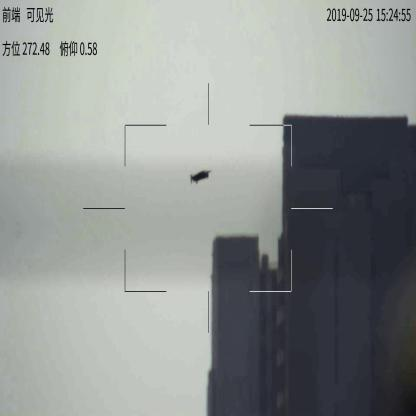uav: (190, 169, 211, 184)
